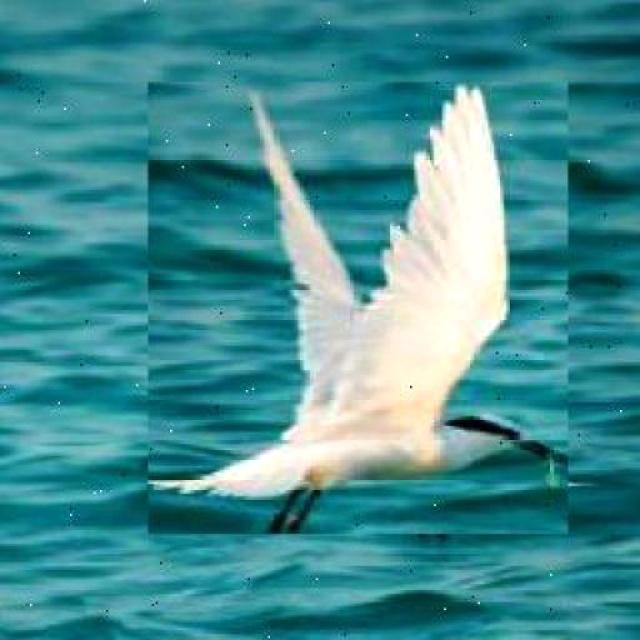airplane: (149, 82, 569, 535)
